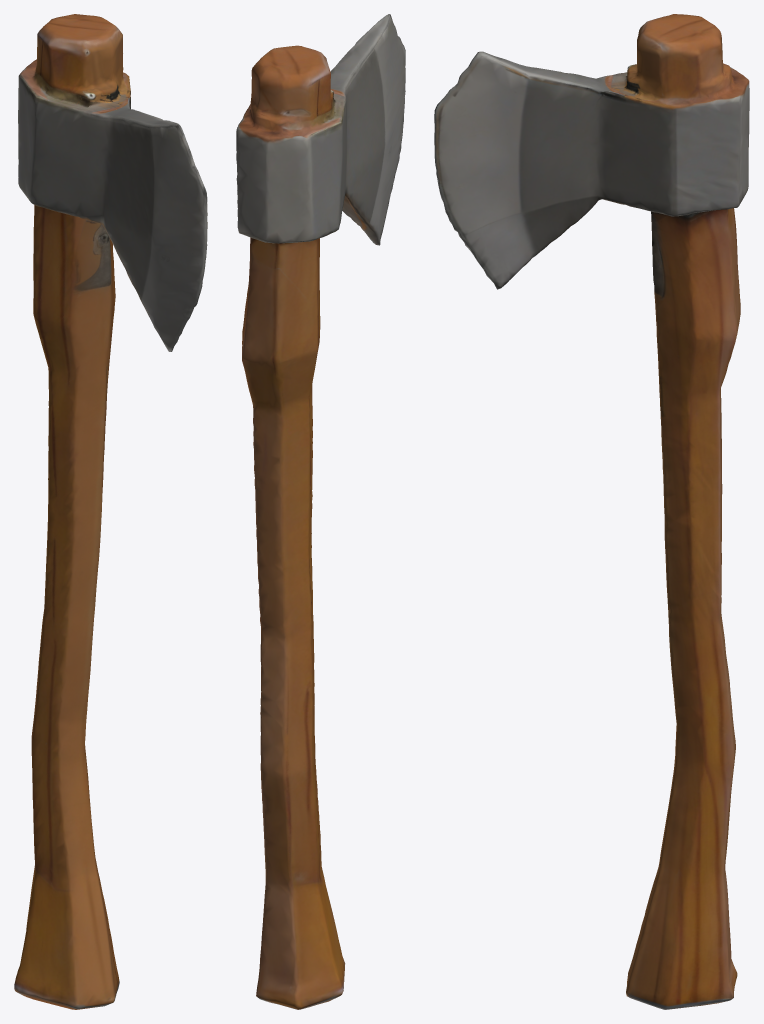
The model's file is Axe.fbx.
3 renders of one model, left to right at view 1: azimuth 30°, elevation 25°; view 2: azimuth 150°, elevation 25°; view 3: azimuth 270°, elevation 25°, orthographic. The views are drawn at different scales.
Parts seen in each view (by area): view 1: Mesh1.0; view 2: Mesh1.0; view 3: Mesh1.0.
Part boxes in pixels (x1,y1,x2,y2): Mesh1.0: [14, 14, 207, 1009]; Mesh1.0: [236, 14, 405, 1009]; Mesh1.0: [434, 14, 749, 1009].
Bounding box in the file's own units: 23.84 × 211 × 61.8.
Materials: 1 (1 with a texture image).
